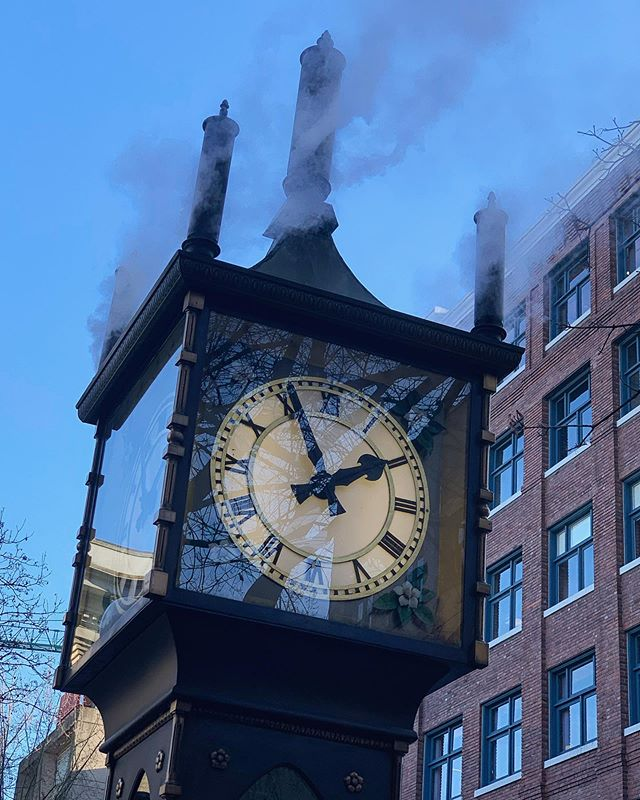building: (429, 207, 640, 800)
clock: (179, 296, 489, 641)
sky: (26, 1, 620, 342)
